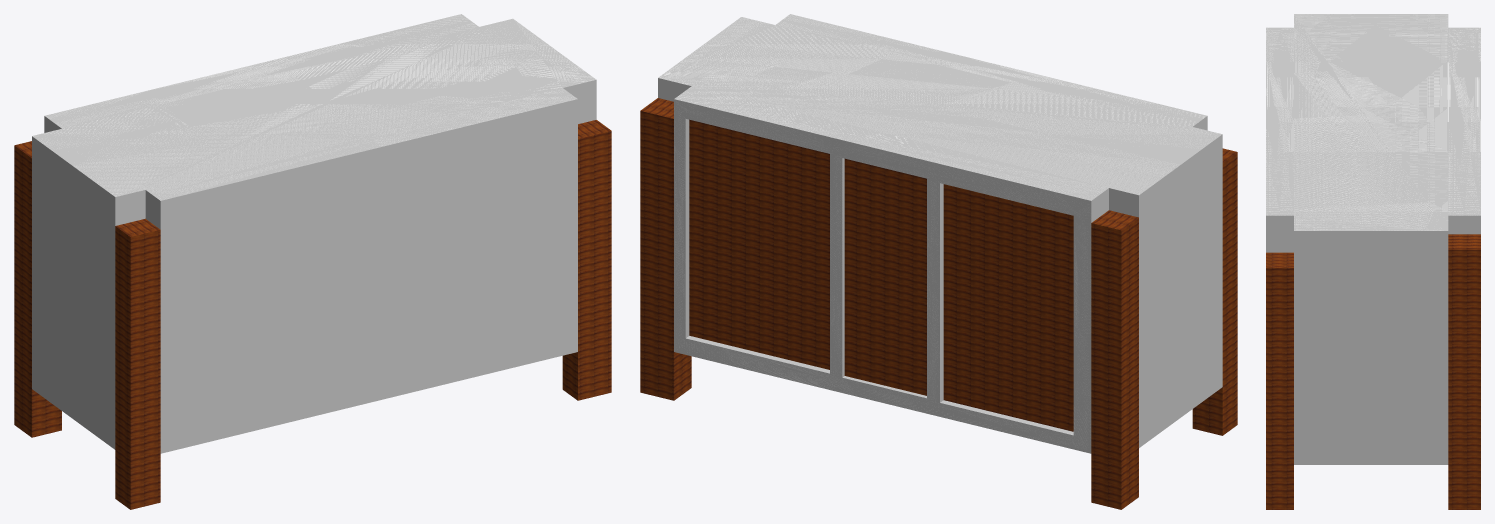
3 views of the same model, side by side, from view 1: azimuth 30°, elevation 25°; view 2: azimuth 150°, elevation 25°; view 3: azimuth 270°, elevation 25° (orthographic). The views are drawn at different scales.
Parts seen in each view (by area): view 1: mesh1_mesh1-geometry; view 2: mesh1_mesh1-geometry; view 3: mesh1_mesh1-geometry.
Boxes of the visible parts, x1,y1,x2,y2 form: mesh1_mesh1-geometry: (14, 14, 611, 509); mesh1_mesh1-geometry: (640, 14, 1237, 509); mesh1_mesh1-geometry: (1266, 14, 1480, 509).
Size of the model in its own units: 0.8074 by 0.4837 by 0.3379.
